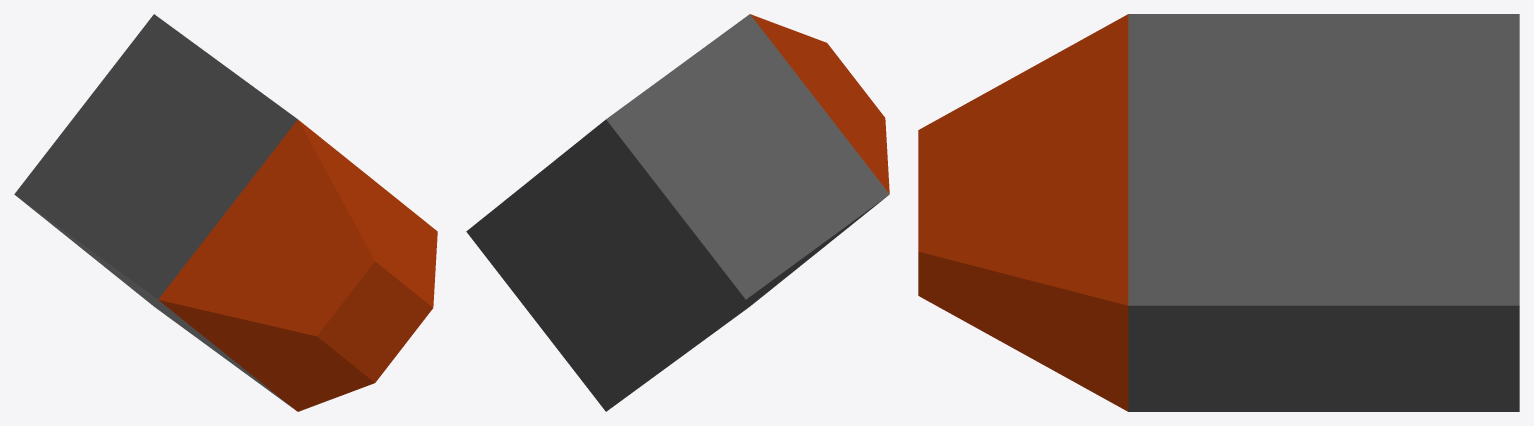
File: Bullet_2.glb
The picture shows the model from 3 angles, left to right: view 1: azimuth 30°, elevation 25°; view 2: azimuth 150°, elevation 25°; view 3: azimuth 270°, elevation 25°; orthographic projection. The views are drawn at different scales.
Parts seen in each view (by area): view 1: Bullet_2; view 2: Bullet_2; view 3: Bullet_2.
Part boxes in pixels (box(x1,y1,x2,y2)): Bullet_2: box(14, 14, 437, 411); Bullet_2: box(466, 14, 889, 411); Bullet_2: box(918, 14, 1519, 411).
Bounding box in the file's own units: 0.4147 × 0.4147 × 0.568.
1 material, 1 textured.
